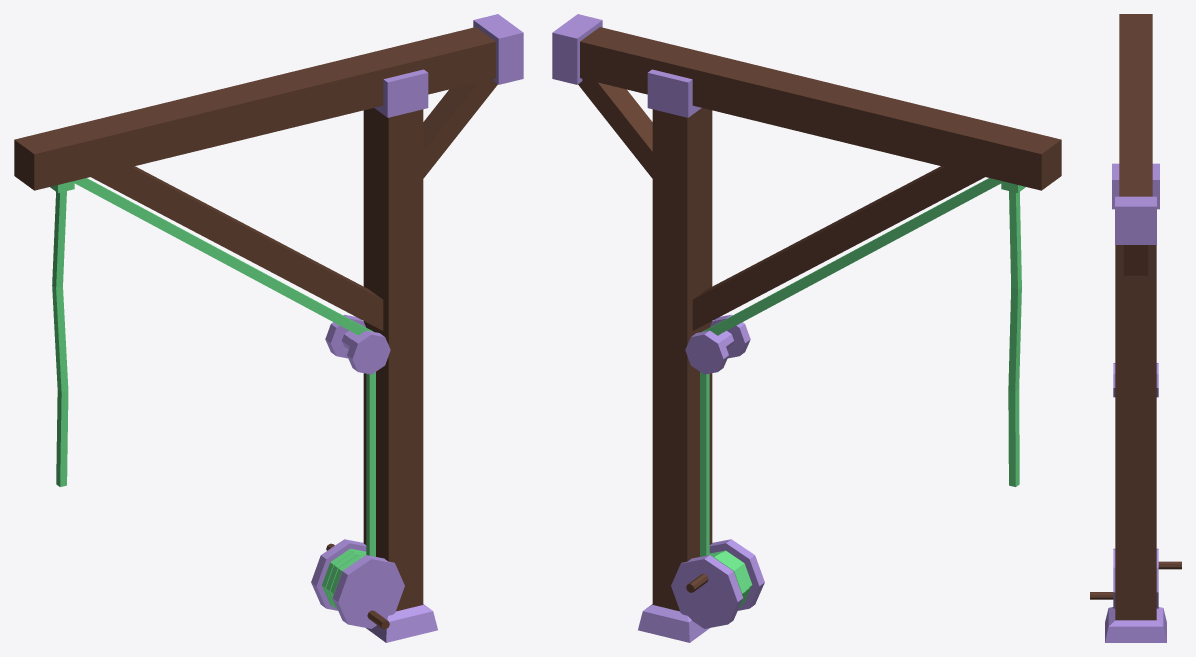
Rendered from Crane_1.fbx.
3 renders of one model, left to right at view 1: azimuth 30°, elevation 25°; view 2: azimuth 150°, elevation 25°; view 3: azimuth 270°, elevation 25°, orthographic. The views are drawn at different scales.
Visible parts, largest first — view 1: Crane_1; view 2: Crane_1; view 3: Crane_1.
Part boxes in pixels (bbox=[...]): Crane_1: bbox=[14, 14, 523, 642]; Crane_1: bbox=[552, 14, 1061, 642]; Crane_1: bbox=[1090, 14, 1181, 642].
Size of the model in its own units: 4.22 by 4.74 by 0.8316.
